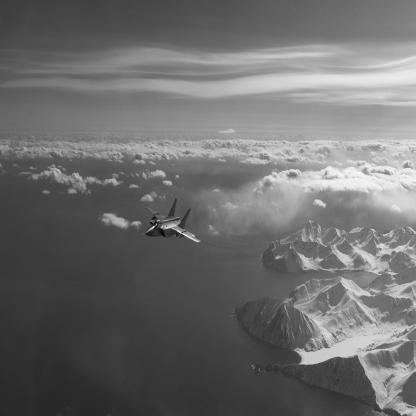Mig31: (143, 198, 203, 244)
